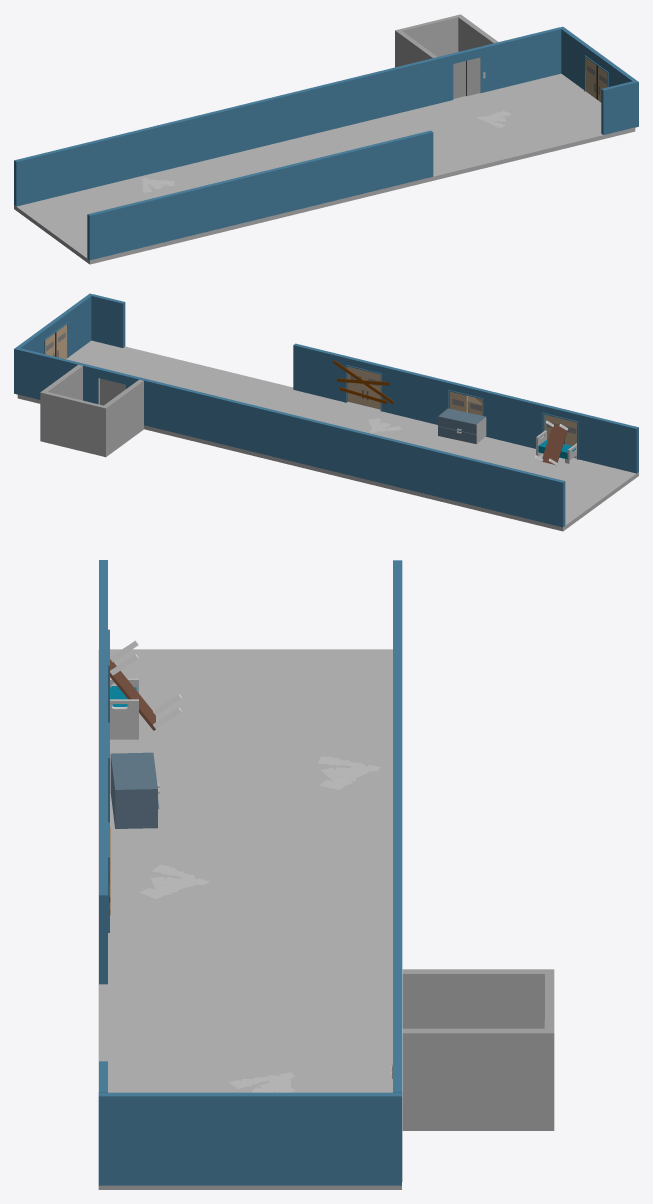
Rendered from hospital_corridor_2.fbx.
The picture shows the model from 3 angles, top to bottom: view 1: azimuth 30°, elevation 25°; view 2: azimuth 150°, elevation 25°; view 3: azimuth 270°, elevation 25°; orthographic projection. The views are drawn at different scales.
Visible parts, largest first — view 1: floor, West_Wall, East_Wall_2, LIFT, North_wall, small_wall, Cube_1, Cube; view 2: West_Wall, floor, East_Wall_2, LIFT, North_wall, small_wall, Locker, Table; view 3: floor, North_wall, LIFT, West_Wall, East_Wall_2, Locker, Boole_1, Papers_2, Papers_1.
Part boxes in pixels (x1,y1,x2,y2): floor: (14,73,635,264); West_Wall: (14,27,561,206); East_Wall_2: (87,130,433,260); LIFT: (395,14,498,67); North_wall: (560,26,638,127); small_wall: (601,81,634,134); Cube_1: (466,57,480,96); Cube: (453,61,465,98); West_Wall: (17,348,565,527); floor: (17,340,638,531); East_Wall_2: (293,343,638,473); LIFT: (40,364,143,457); North_wall: (14,293,92,394); small_wall: (91,294,125,347); Locker: (438,408,486,444); Table: (541,424,567,465); floor: (98,649,401,1189); North_wall: (98,1092,401,1185); LIFT: (402,969,554,1130); West_Wall: (393,560,402,1181); East_Wall_2: (99,560,109,984); Locker: (110,752,159,828); Boole_1: (110,699,138,739); Papers_2: (317,756,380,789); Papers_1: (139,864,209,899).
Size of the model in its own units: 4180 by 356 by 1501.
